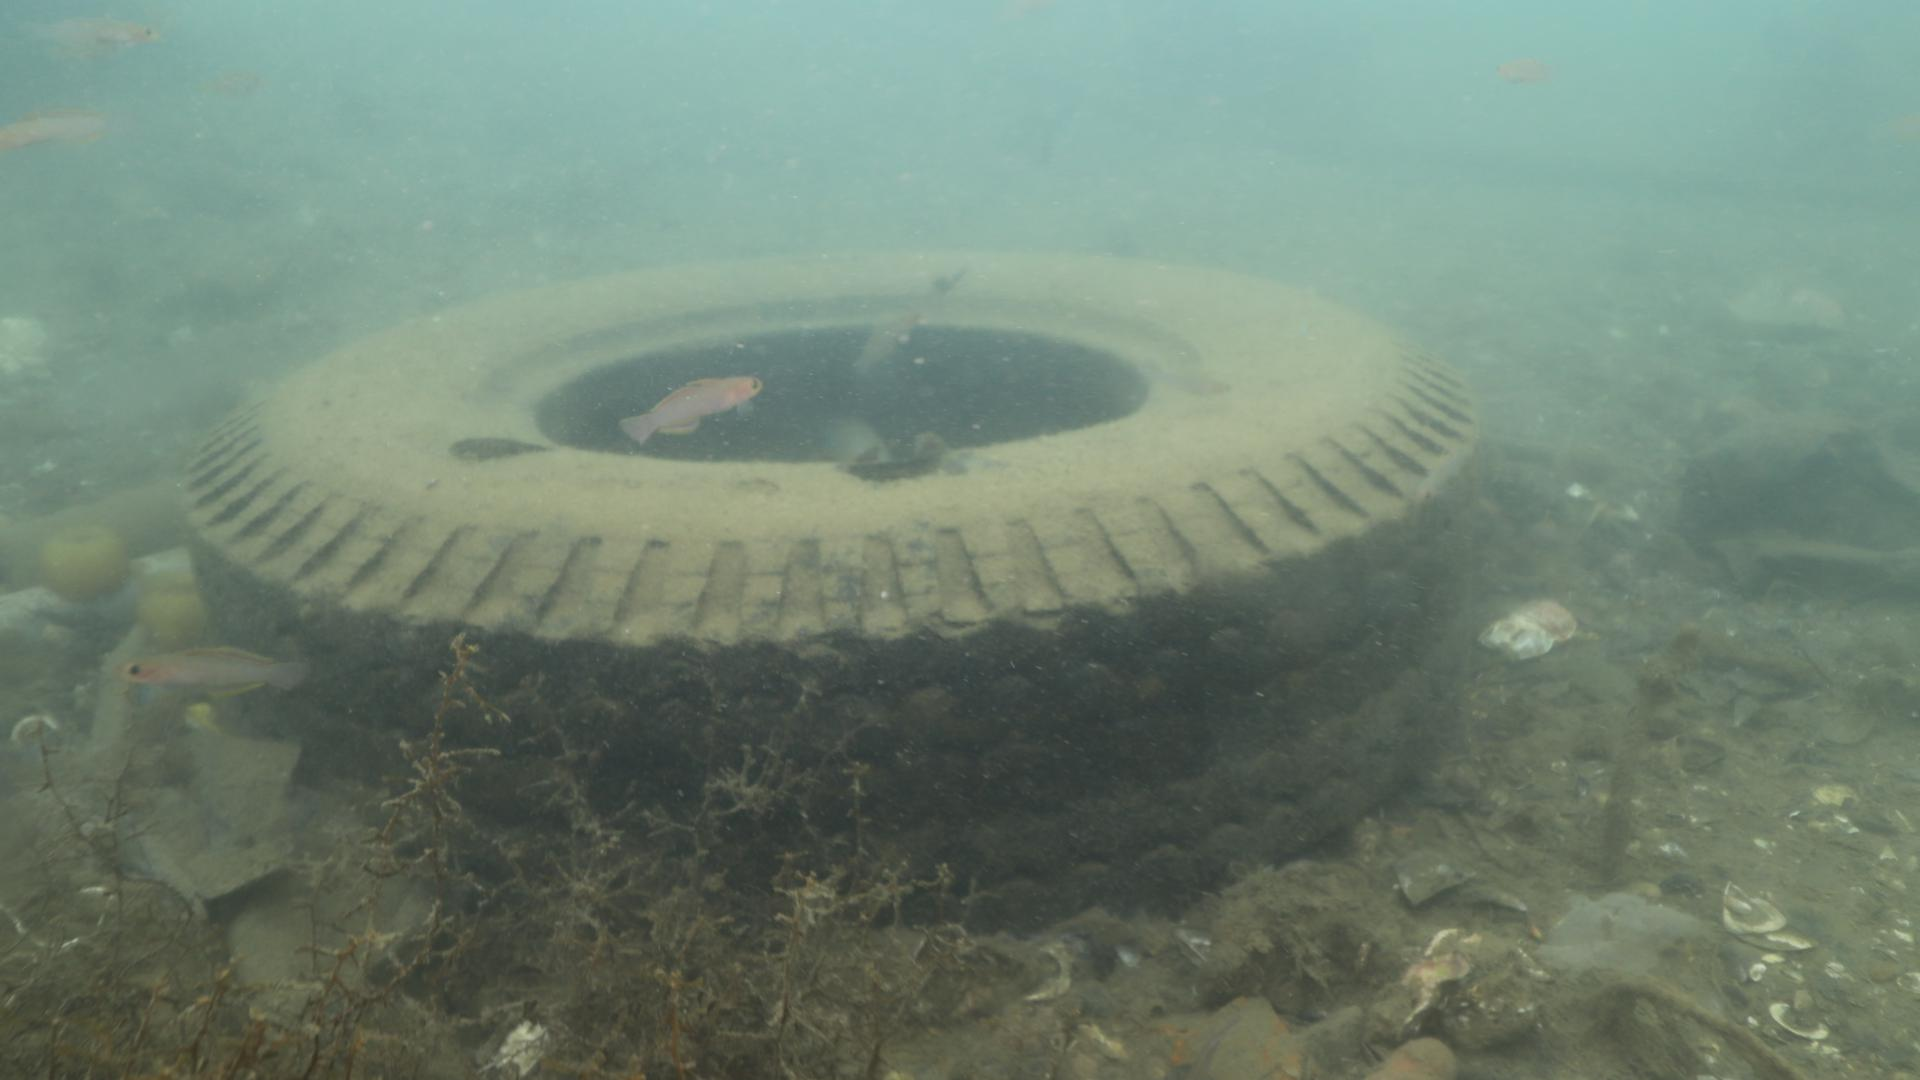tire: (175, 247, 1485, 938)
